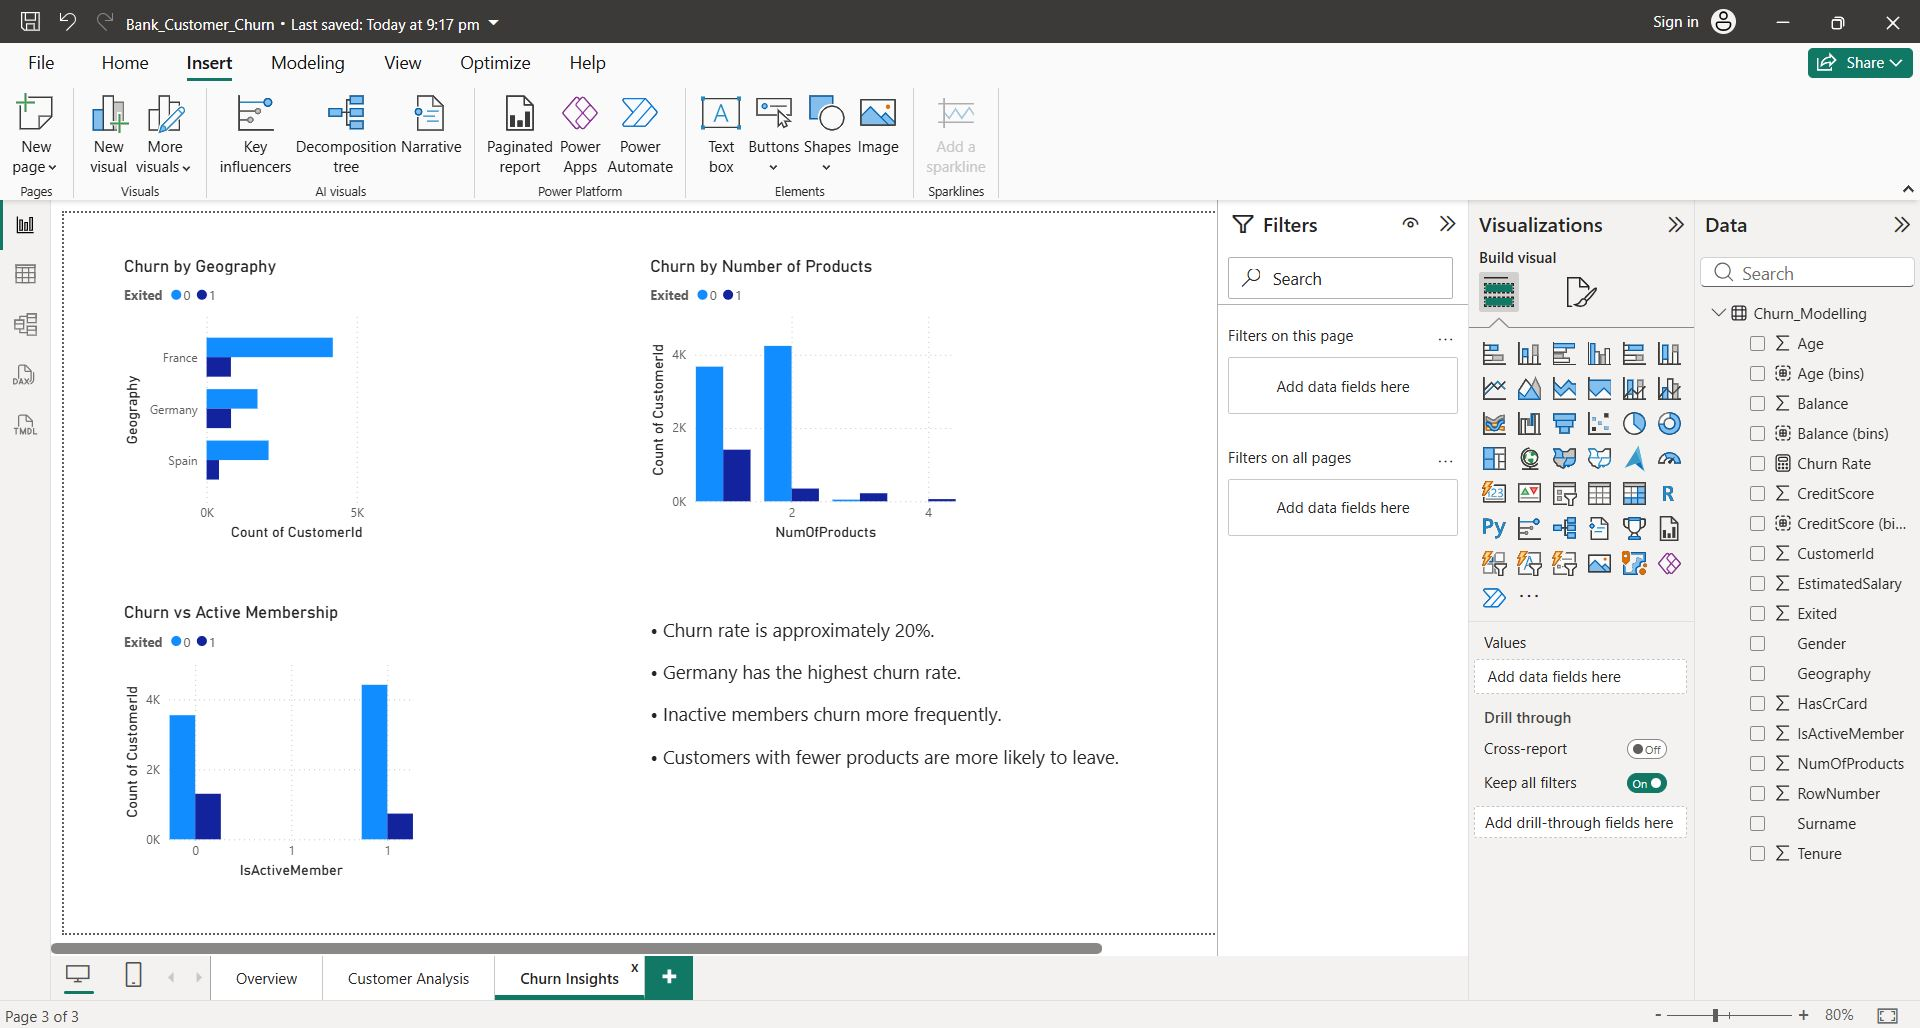

Layout of this report page (visuals, bound fields, positions):
{"tool":"powerbi","page":{"name":"Churn Insights","canvas":[1280,720],"ordinal":2},"visuals":[{"type":"clusteredBarChart","title":"Churn by Geography","fields":{"Category":["Churn_Modelling.Geography"],"Y":["CountNonNull(Churn_Modelling.CustomerId)"],"Series":["Churn_Modelling.Exited"]},"box":[54.9,42.5,279.9,289.5],"z":0},{"type":"clusteredColumnChart","title":"Churn vs Active Membership","fields":{"Category":["Churn_Modelling.IsActiveMember"],"Y":["CountNonNull(Churn_Modelling.CustomerId)"],"Series":["Churn_Modelling.Exited"]},"box":[54.9,388.3,299.1,281.3],"z":1000},{"type":"clusteredColumnChart","title":"Churn by Number of Products","fields":{"Category":["Churn_Modelling.NumOfProducts"],"Y":["CountNonNull(Churn_Modelling.CustomerId)"],"Series":["Churn_Modelling.Exited"]},"box":[581.8,42.5,315.6,289.5],"z":2000},{"type":"textbox","box":[581.8,399.3,484.4,223.7],"z":3000}]}

Visuals, with their boxes on the page's 1280x720 design canvas (x1, y1, x2, y2). These are canvas units, not pixel positions in the 1920x1028 screenshot, which may show the page scaled, cropped or inside an application window:
"Churn by Geography" clusteredBarChart: locate(55, 42, 335, 332)
"Churn vs Active Membership" clusteredColumnChart: locate(55, 388, 354, 670)
"Churn by Number of Products" clusteredColumnChart: locate(582, 42, 897, 332)
textbox: locate(582, 399, 1066, 623)
